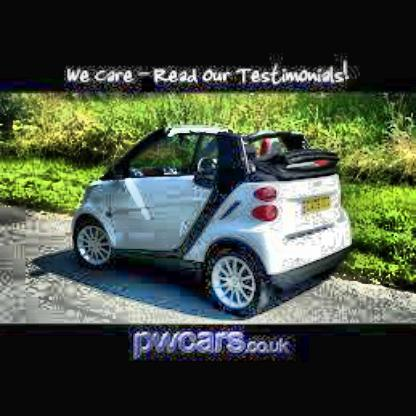smart fortwo Convertible 2012: (71, 122, 356, 324)
